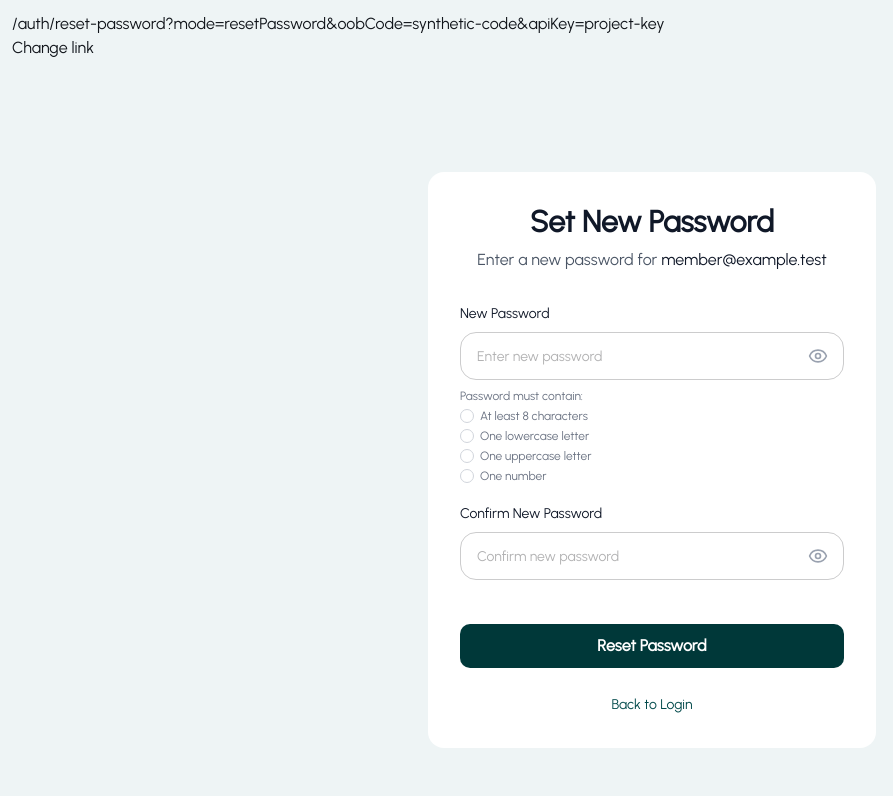
Test case: removes the form if the code becomes unusable at confirmation: auth/expired-action-code
The image size is (893, 796).
Step 1. Type "Secure123" into the password field labelled "New Password" → (652, 356), box [460,332,844,380]
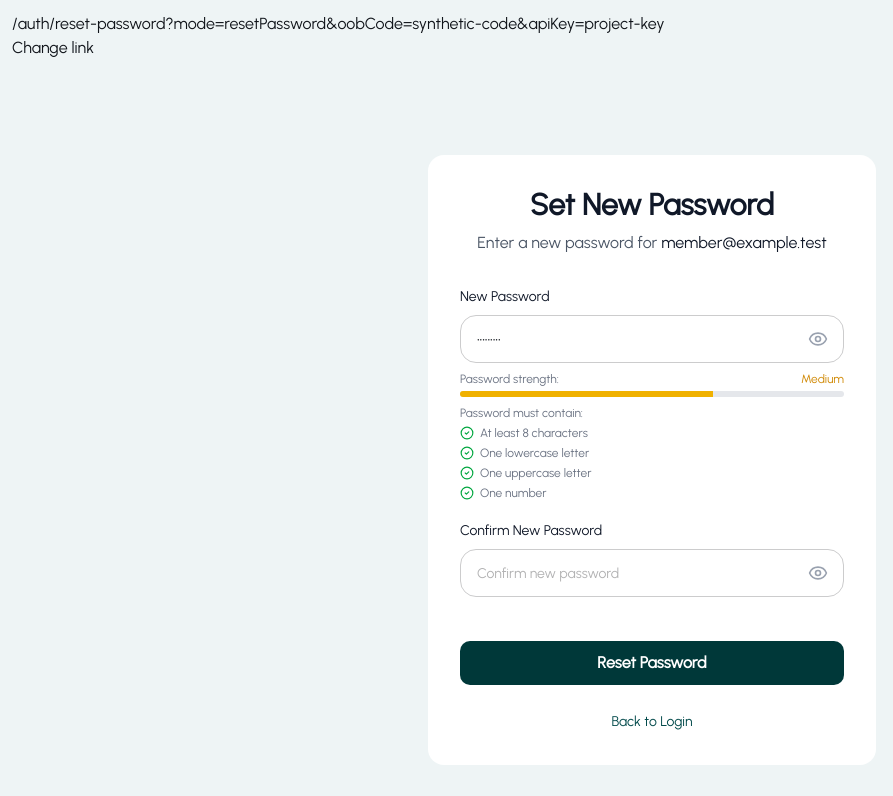
Step 2. Type "Secure123" into the password field labelled "Confirm New Password" → (652, 573), box [460,549,844,597]
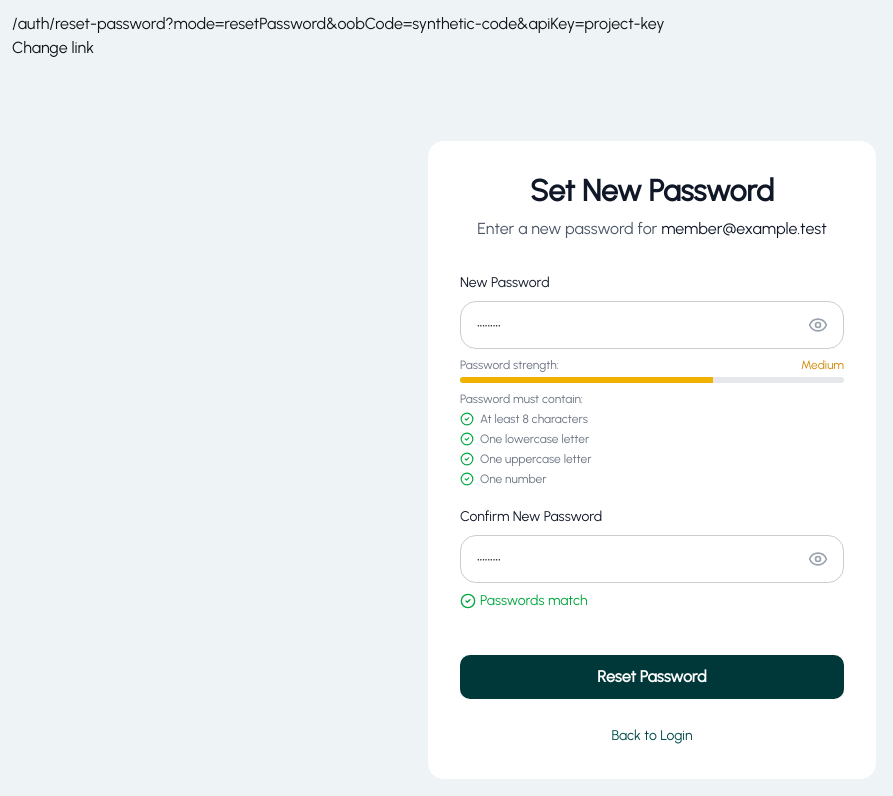
Step 3. Submit the form labelled "New Password", box [460,273,844,699]
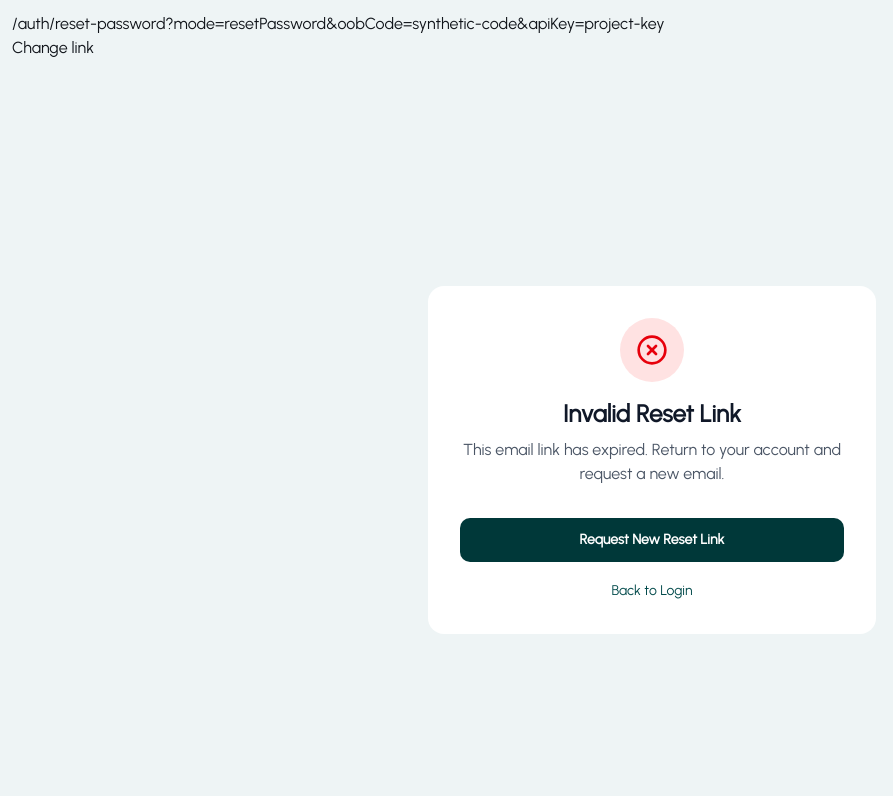
Result: the message shows "expired" at [463,440,841,483]
Result: the heading labelled "New Password" is gone
